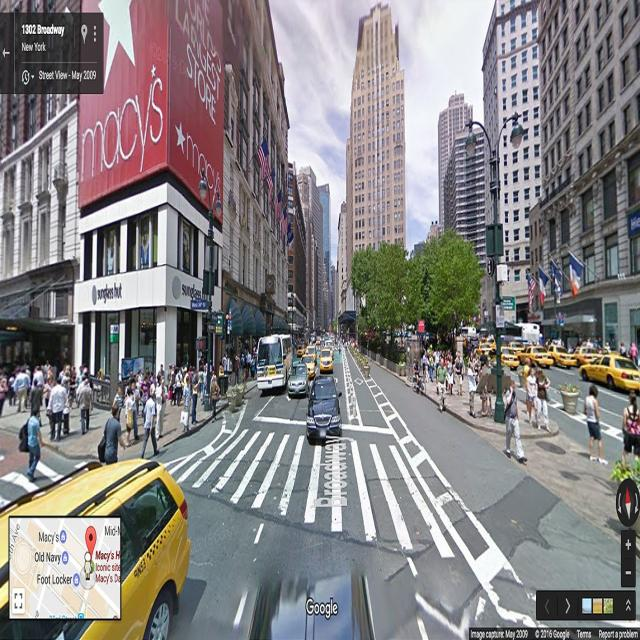body: (41, 356, 94, 401), (583, 384, 609, 468), (503, 378, 528, 464), (96, 401, 126, 467), (18, 404, 43, 483), (139, 386, 160, 460), (46, 376, 68, 443), (59, 406, 102, 439), (534, 366, 551, 433), (623, 389, 640, 455), (525, 364, 541, 428), (78, 379, 94, 436), (14, 361, 31, 412), (128, 365, 155, 397), (178, 374, 192, 434), (156, 374, 168, 442), (111, 385, 125, 438), (122, 386, 134, 446), (466, 359, 478, 419), (582, 332, 612, 356), (130, 378, 141, 442), (435, 356, 447, 414), (483, 357, 494, 419), (521, 408, 547, 433), (190, 368, 201, 426), (208, 374, 220, 424), (334, 332, 360, 355), (478, 362, 488, 418), (523, 357, 532, 416), (42, 375, 54, 419), (32, 364, 44, 406), (139, 372, 148, 427), (291, 328, 310, 354), (454, 348, 465, 392), (412, 353, 424, 393), (537, 331, 565, 348), (0, 366, 9, 418), (182, 362, 198, 391), (181, 226, 191, 271), (140, 218, 149, 266), (454, 356, 464, 396), (468, 339, 486, 361), (106, 230, 115, 274), (446, 352, 454, 396), (30, 378, 42, 407), (217, 358, 227, 391), (169, 367, 176, 413), (175, 367, 183, 407), (210, 370, 218, 410), (7, 372, 16, 406), (201, 364, 208, 406), (422, 334, 444, 347), (422, 349, 430, 383), (472, 352, 480, 386), (161, 425, 178, 441), (448, 351, 454, 395), (214, 401, 226, 423), (197, 364, 204, 400), (628, 340, 638, 364), (233, 352, 240, 386), (439, 348, 446, 382), (1, 408, 18, 422), (157, 363, 166, 388), (166, 362, 173, 394), (428, 351, 435, 382), (245, 346, 251, 381), (434, 347, 440, 382), (579, 446, 591, 463), (250, 352, 256, 384), (221, 351, 228, 376), (198, 354, 205, 374), (33, 474, 50, 482), (240, 353, 245, 377), (619, 340, 627, 355), (468, 350, 474, 369), (197, 416, 206, 427), (446, 349, 452, 363), (252, 339, 258, 352), (163, 411, 171, 420), (236, 351, 240, 367)
